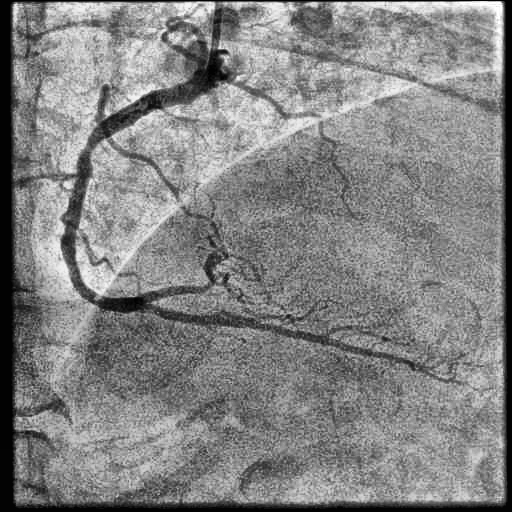pborca: (147, 258, 216, 301)
pda: (142, 304, 489, 393)
rca: (61, 69, 216, 313)
